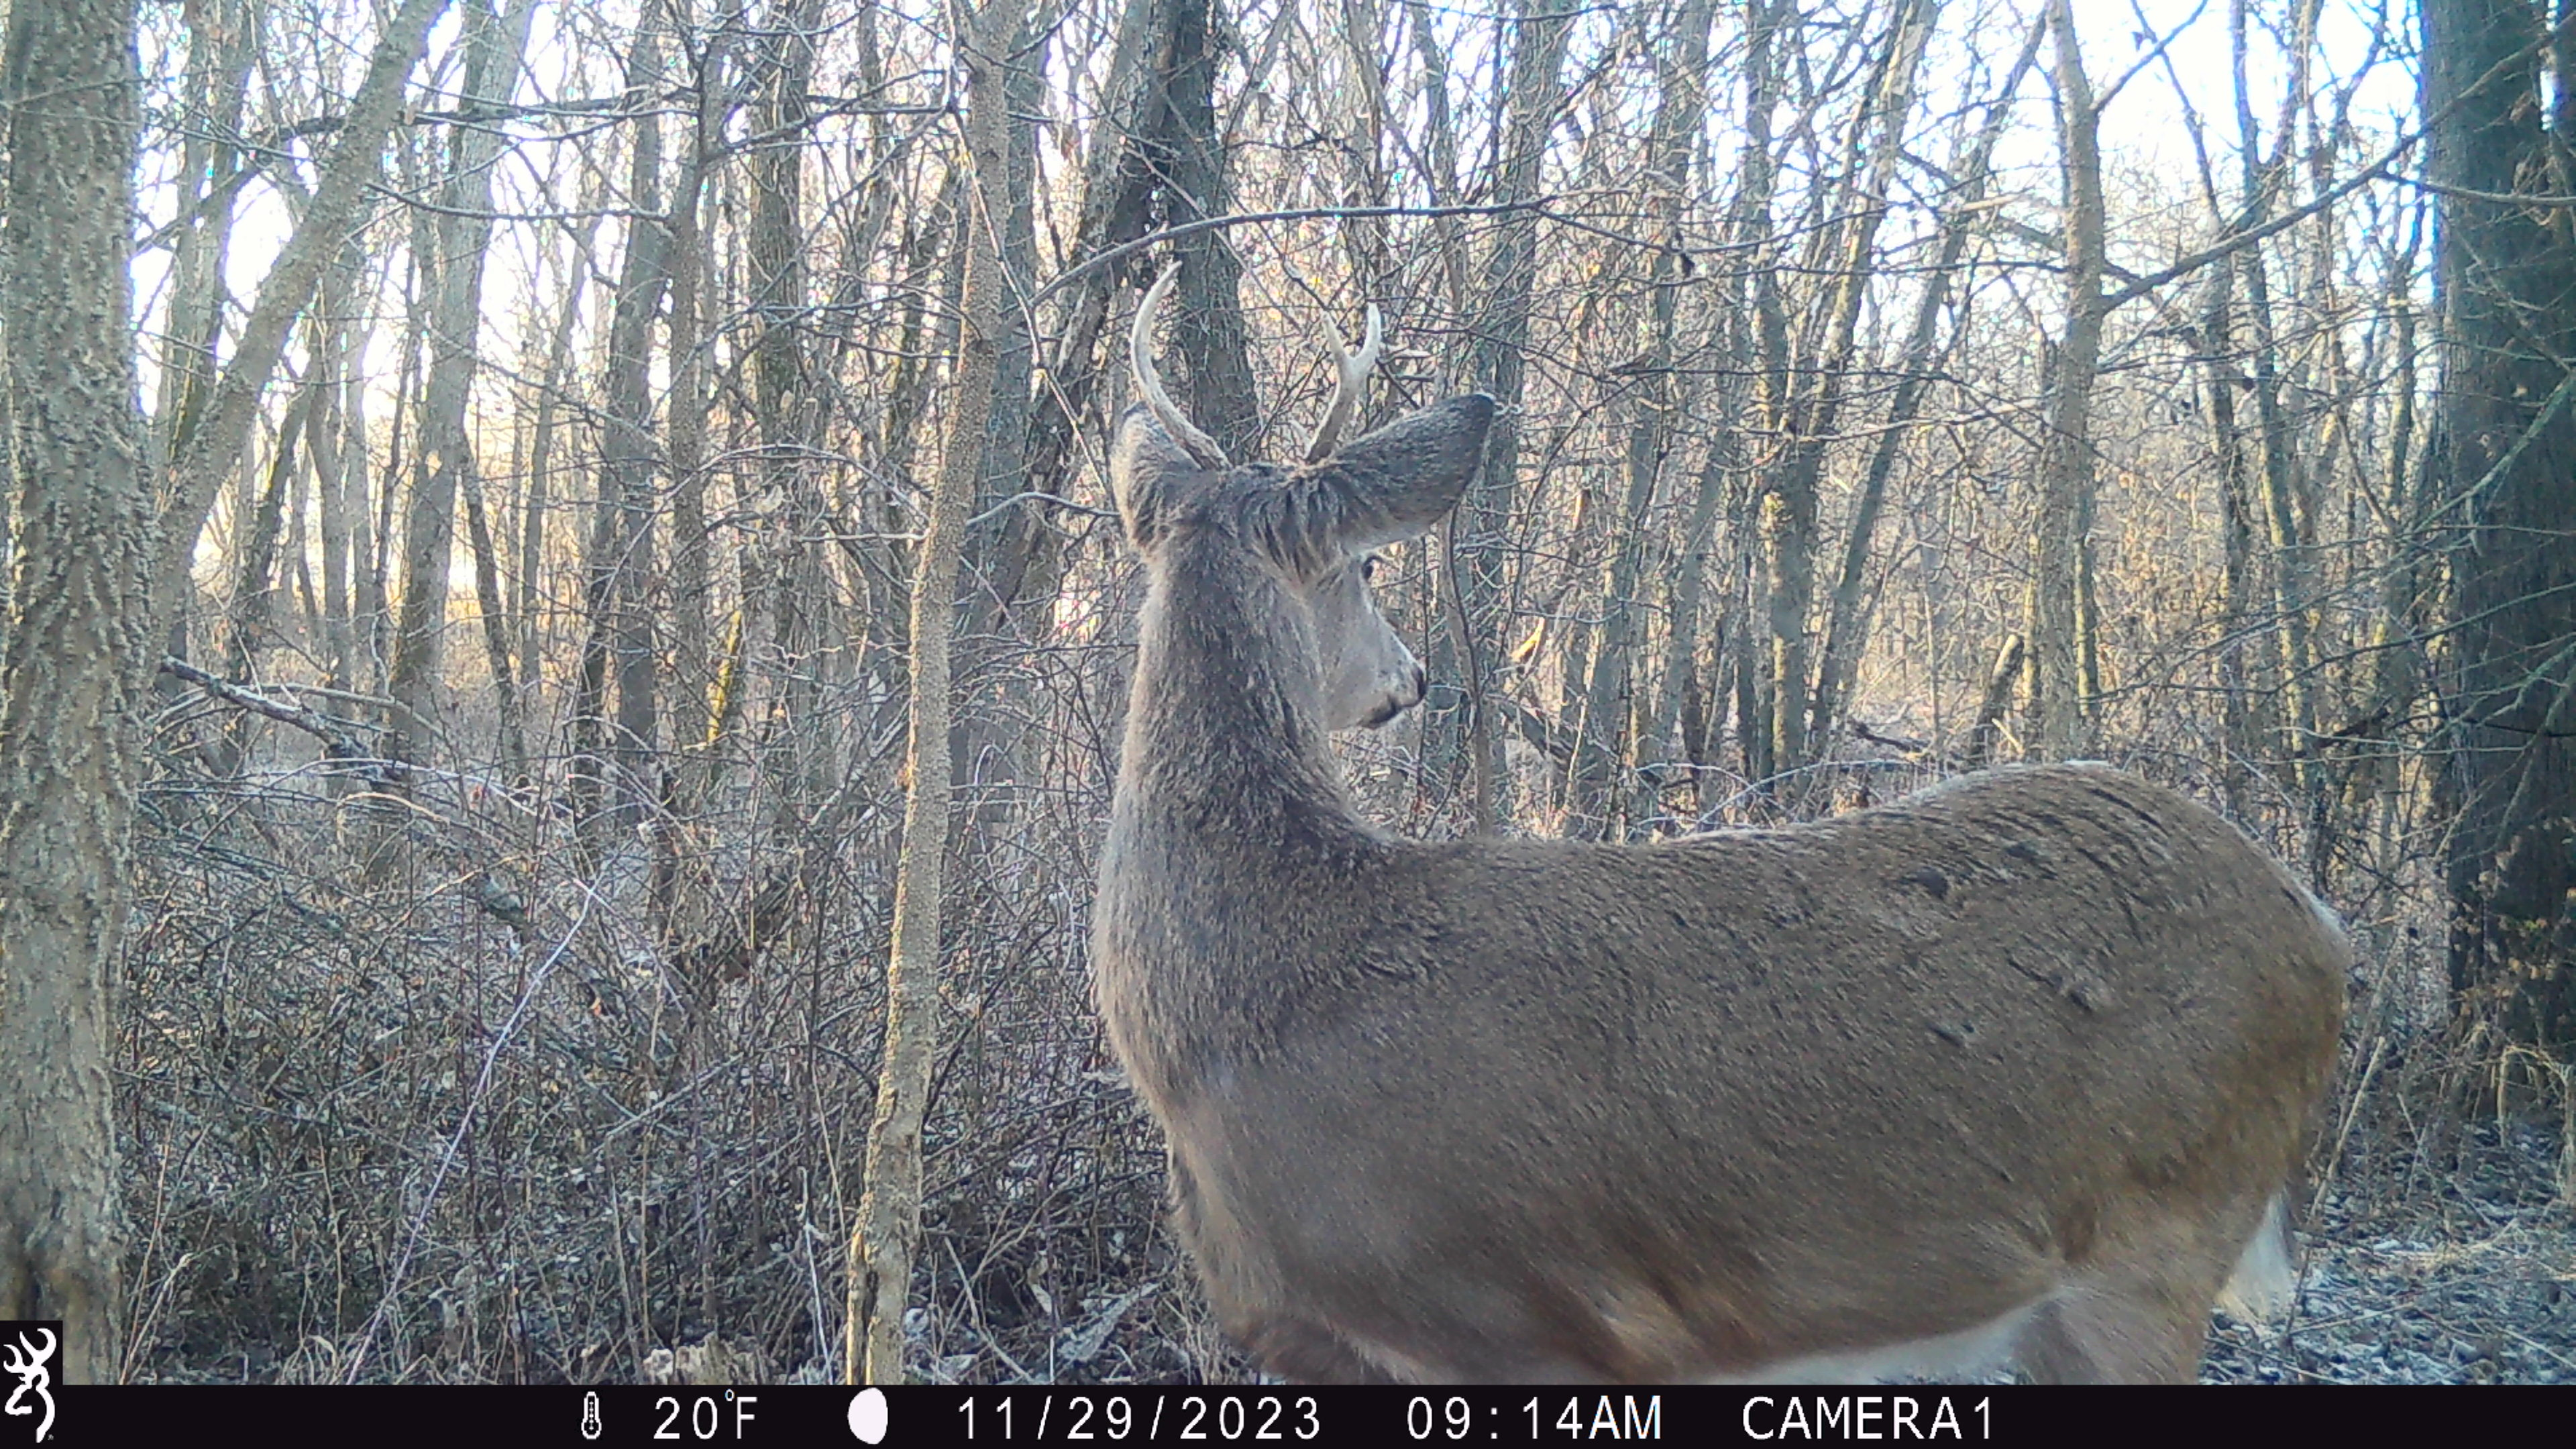DeerBuck: (1089, 258, 2358, 1386)
DeerBuckHead: (1108, 256, 1497, 728)
